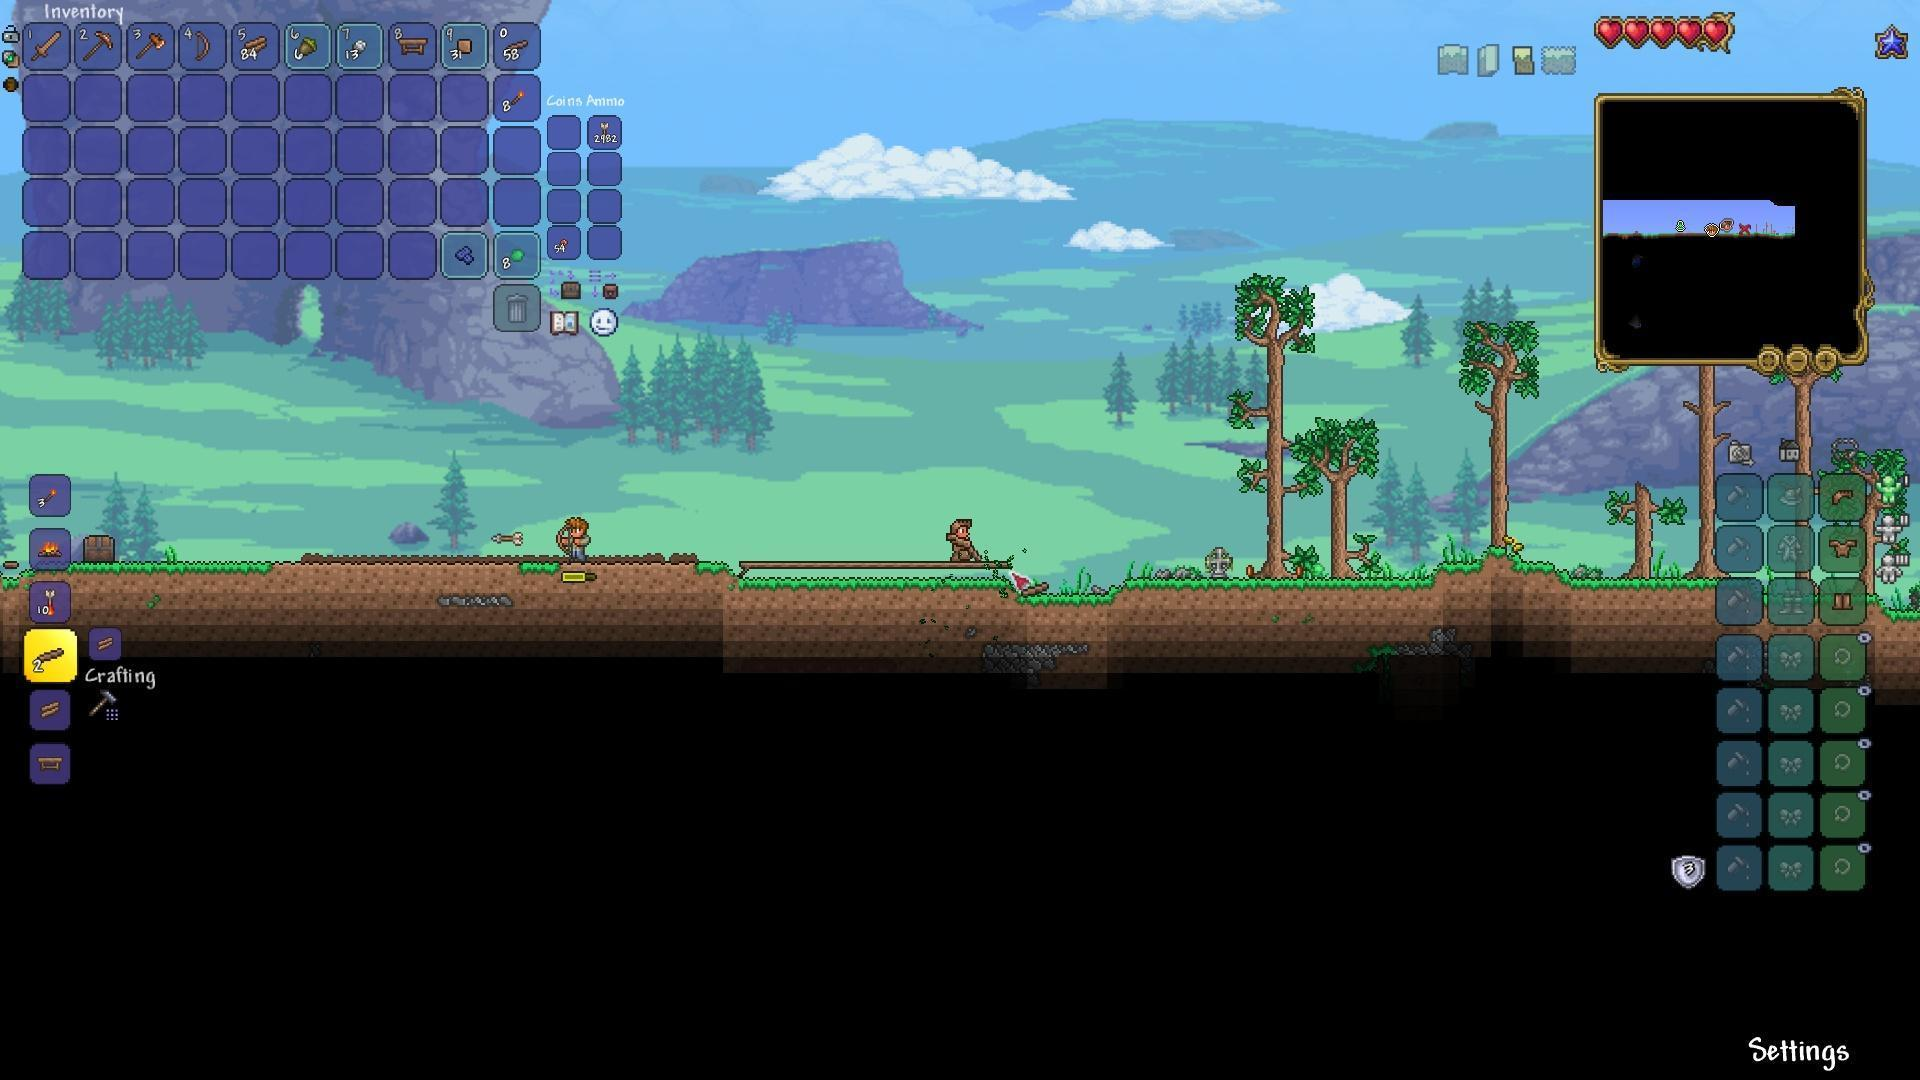breastplate: (1829, 537, 1858, 558)
helmet: (1828, 483, 1858, 508)
legs: (1832, 585, 1857, 615)
wood: (36, 695, 65, 721), (243, 34, 270, 61), (91, 632, 117, 658)
workbench: (393, 33, 430, 58), (36, 752, 67, 775)
